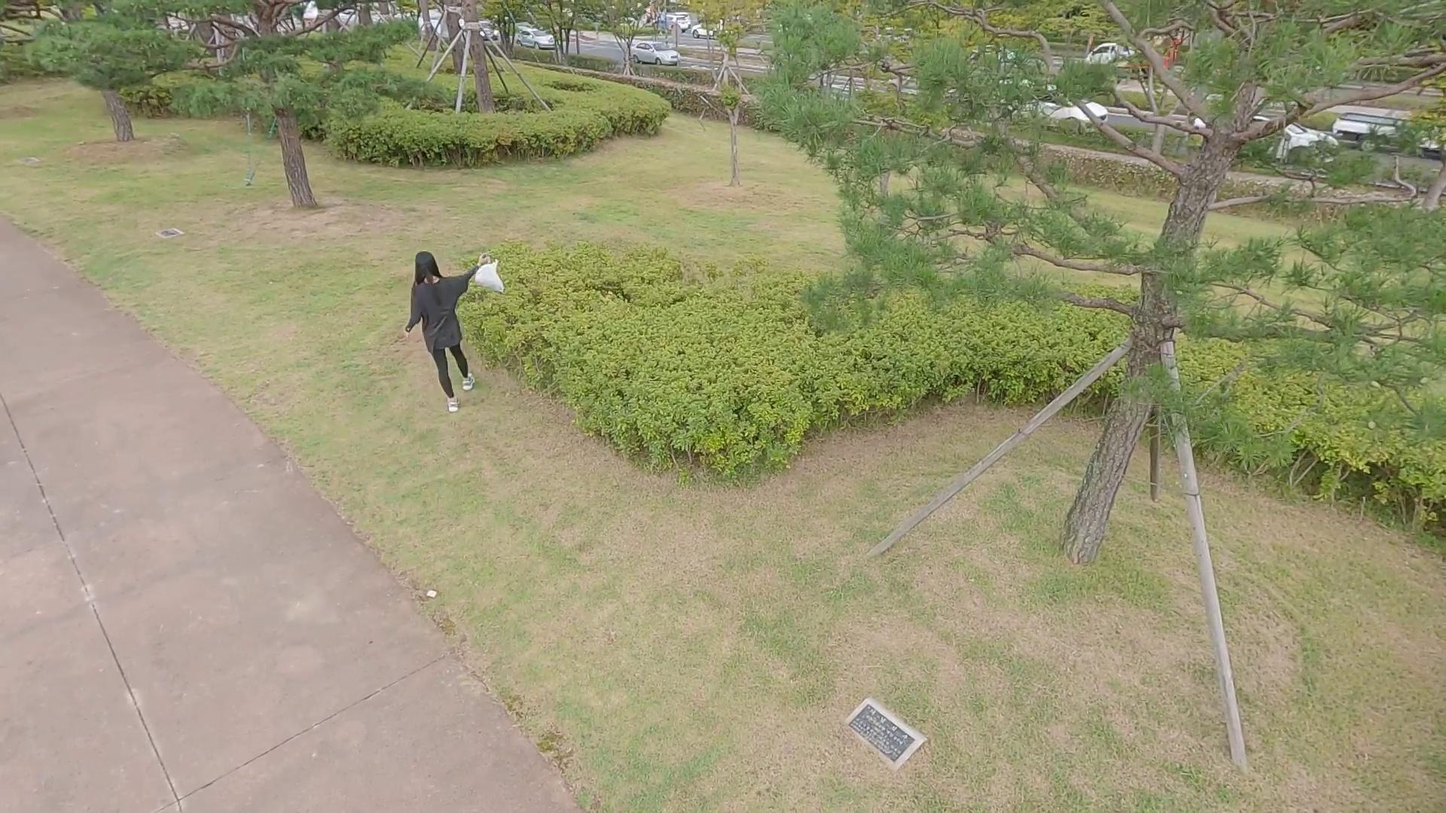person: (402, 250, 493, 414)
trash: (475, 258, 505, 295)
